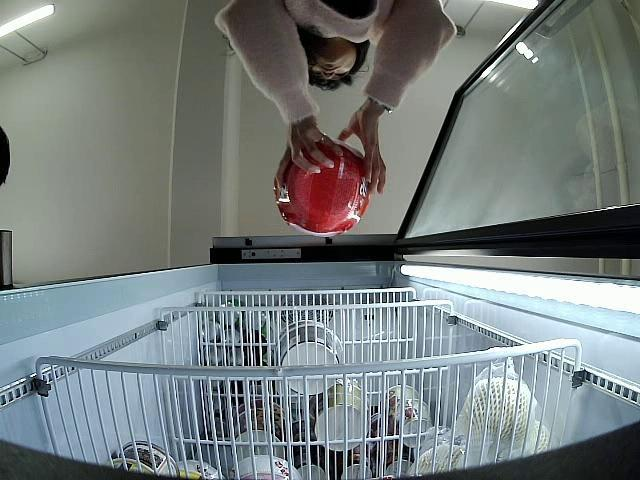10_wangTtukkeong: (274, 141, 371, 236)
